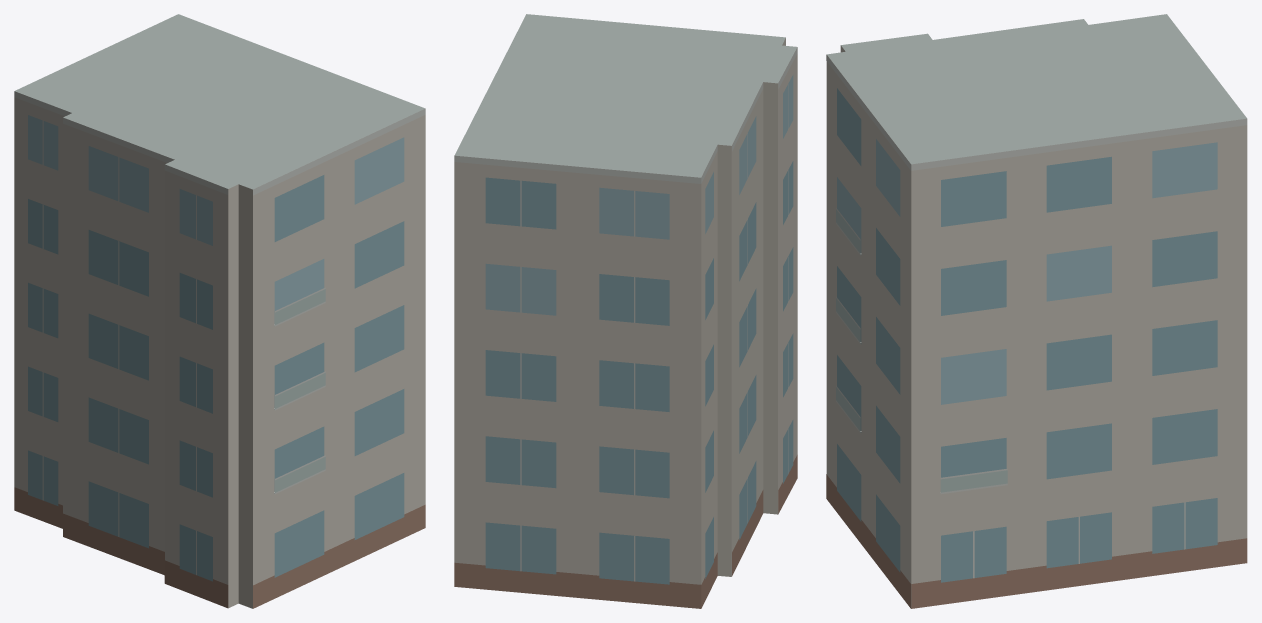
The model's file is survey-upis-32881641.glb.
The picture shows the model from 3 angles, left to right: view 1: azimuth 30°, elevation 25°; view 2: azimuth 150°, elevation 25°; view 3: azimuth 270°, elevation 25°; orthographic projection. The views are drawn at different scales.
Visible parts, largest first — view 1: survey-upis-32881641.tmp; view 2: survey-upis-32881641.tmp; view 3: survey-upis-32881641.tmp.
Boxes of the visible parts, x1=… form: survey-upis-32881641.tmp: x1=14, y1=14, x2=425, y2=608; survey-upis-32881641.tmp: x1=454, y1=14, x2=797, y2=608; survey-upis-32881641.tmp: x1=826, y1=14, x2=1247, y2=608.
Bounding box in the file's own units: 12.13 × 16.7 × 14.34.
